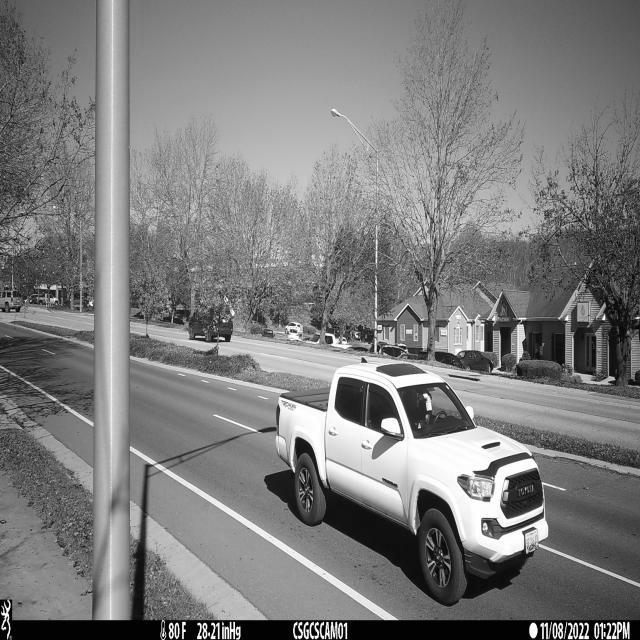Pickup: (276, 362, 552, 607)
